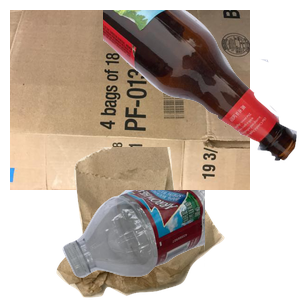cardboard: (10, 10, 250, 190)
glass: (103, 10, 300, 163)
plastic: (60, 190, 300, 280)
trash: (54, 147, 271, 300)
